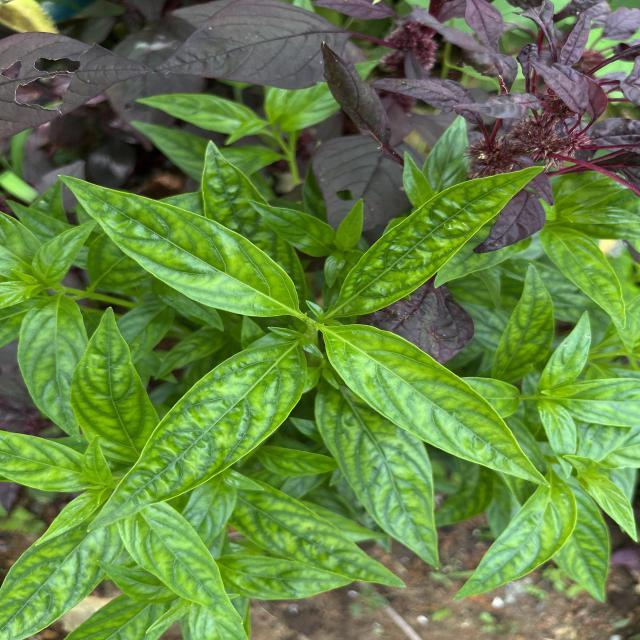Andrographis paniculata: (86, 335, 306, 536), (321, 322, 555, 491), (56, 171, 307, 320), (330, 162, 550, 322), (314, 387, 441, 572), (236, 478, 411, 592), (452, 470, 578, 602), (120, 504, 250, 630), (66, 305, 160, 462), (0, 520, 105, 640), (542, 224, 630, 332), (488, 262, 556, 384), (536, 310, 594, 393)
